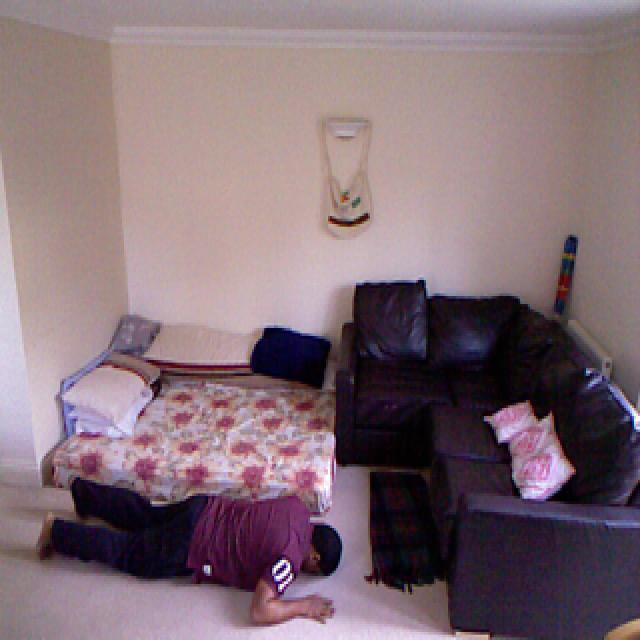Fall: (20, 457, 371, 640)
